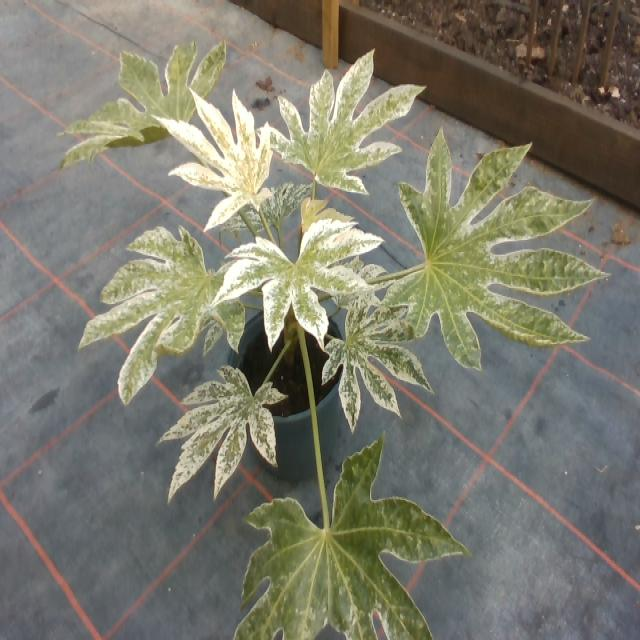Fatsia-japonica: (359, 115, 609, 376), (236, 441, 453, 640), (77, 193, 260, 381), (70, 23, 226, 170), (271, 47, 418, 201), (222, 225, 389, 345), (300, 281, 448, 413), (143, 348, 280, 488), (163, 77, 279, 230), (224, 170, 318, 228)
